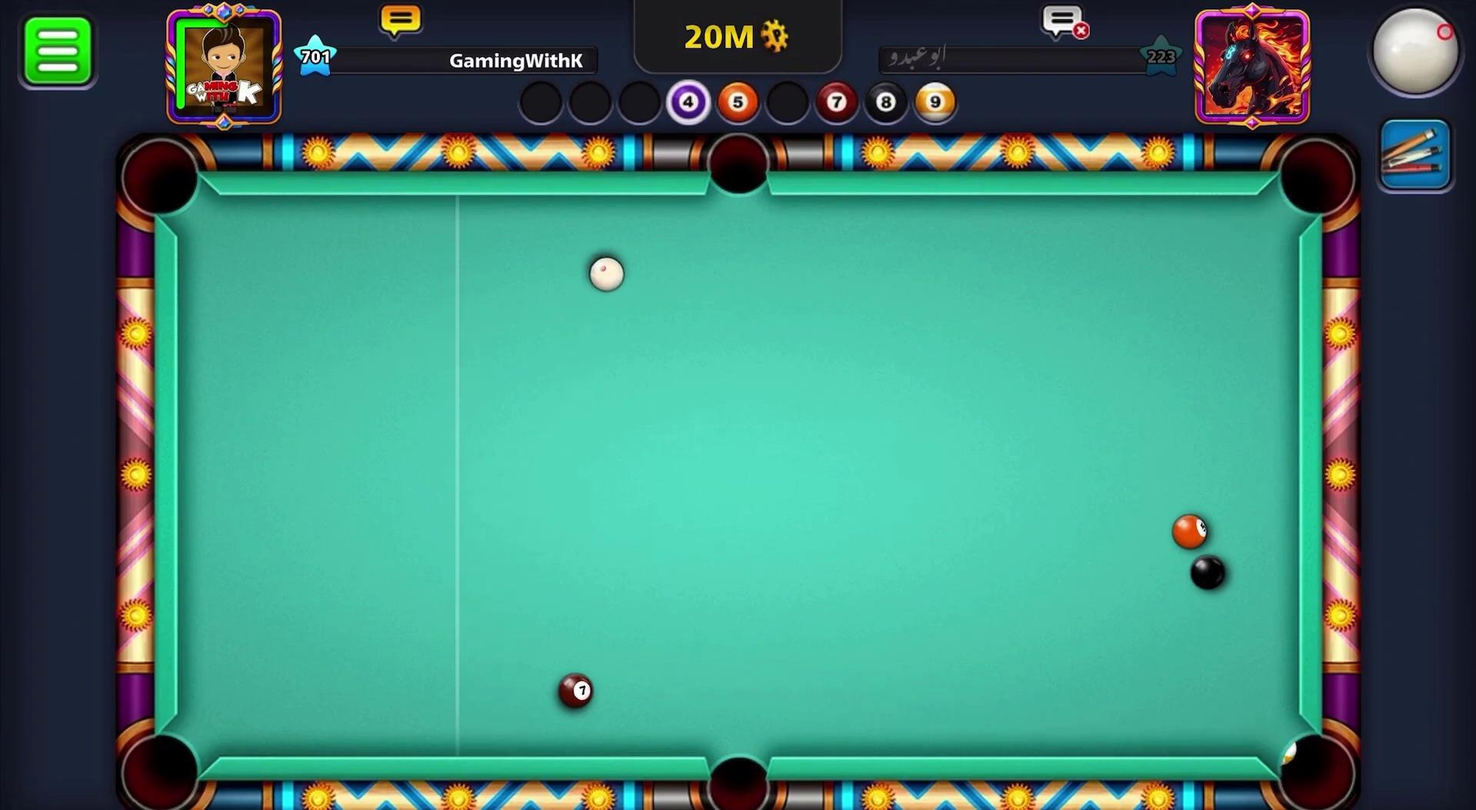Ball: (1170, 501, 1213, 553), (554, 670, 596, 712), (1188, 552, 1230, 593)
Hole: (108, 129, 212, 230), (1267, 712, 1363, 809), (109, 719, 212, 809), (1268, 133, 1364, 229), (695, 125, 785, 209), (687, 741, 786, 809)
Play_Area: (176, 194, 1297, 758)
Spin: (1348, 0, 1475, 112)
White: (581, 251, 629, 297)
